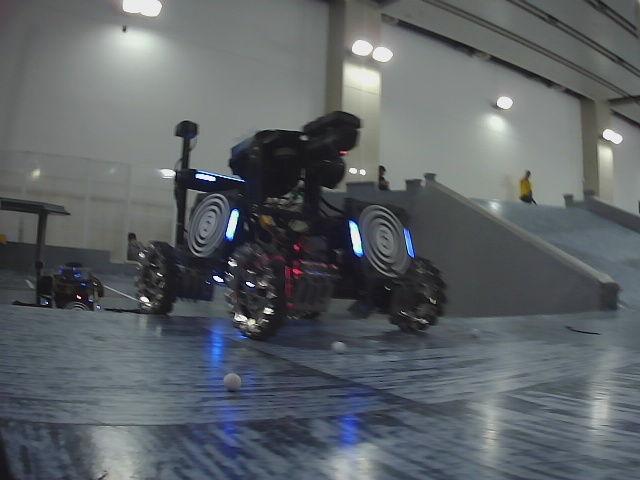lamp: (348, 222, 363, 257), (228, 208, 239, 240), (404, 229, 415, 257)
pair: (348, 220, 413, 257)
